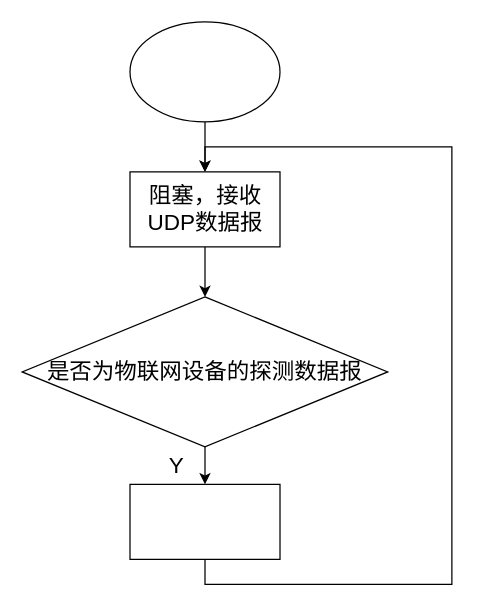
The diagram is 484 pixels wide and 616 high, and some of its shapes have lost their labels. The centre of each missing label's shape, as x and y in pixels:
"发送响应数据报" belongs at pixel 204 521.
"开始" belongs at pixel 204 71.
